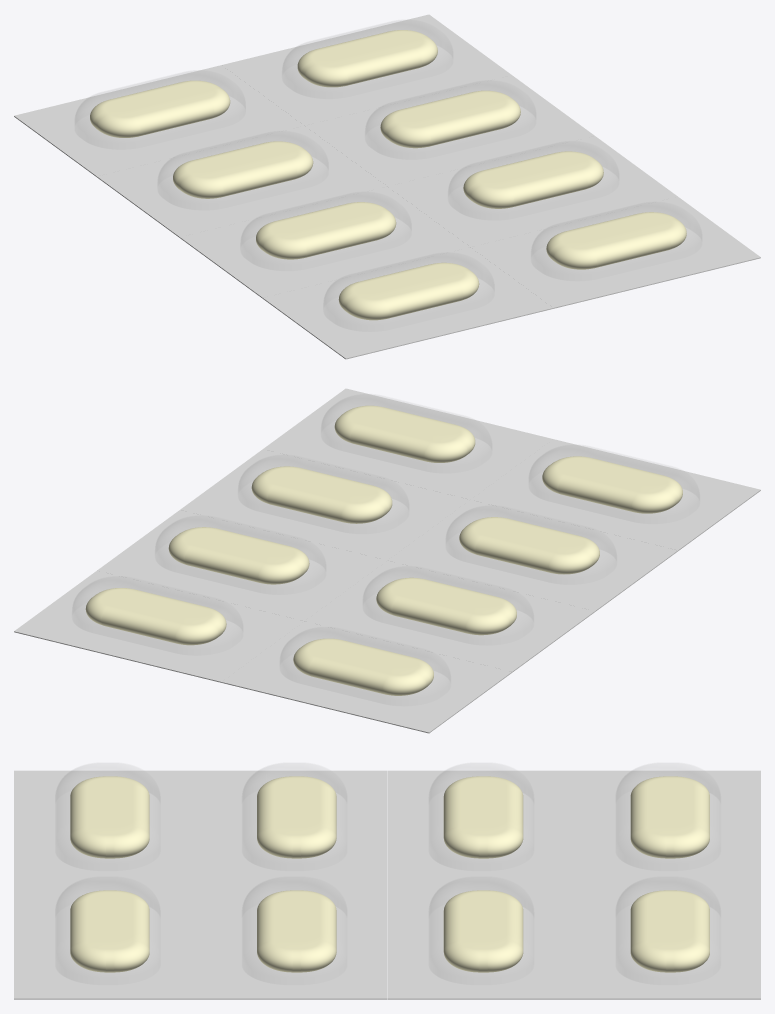
File: Heart_Pill_2x4_Beige.glb
3 renders of one model, top to bottom at view 1: azimuth 30°, elevation 25°; view 2: azimuth 150°, elevation 25°; view 3: azimuth 270°, elevation 25°, orthographic. The views are drawn at different scales.
Parts seen in each view (by area): view 1: Capsule_Pill_Base_2x4, Capsule_Pill_2x4, Capsule_Pill_Lid_2x4, Capsule_Pill_Shell_2x4; view 2: Capsule_Pill_Base_2x4, Capsule_Pill_2x4, Capsule_Pill_Lid_2x4, Capsule_Pill_Shell_2x4; view 3: Capsule_Pill_Base_2x4, Capsule_Pill_2x4, Capsule_Pill_Lid_2x4, Capsule_Pill_Shell_2x4.
Part boxes in pixels (x1,y1,x2,y2): Capsule_Pill_Base_2x4: (14, 14, 760, 359); Capsule_Pill_2x4: (90, 30, 686, 320); Capsule_Pill_Lid_2x4: (74, 45, 702, 331); Capsule_Pill_Shell_2x4: (75, 20, 701, 307); Capsule_Pill_Base_2x4: (14, 388, 760, 733); Capsule_Pill_2x4: (85, 405, 682, 695); Capsule_Pill_Lid_2x4: (72, 420, 700, 706); Capsule_Pill_Shell_2x4: (72, 394, 699, 681); Capsule_Pill_Base_2x4: (14, 770, 760, 999); Capsule_Pill_2x4: (70, 776, 709, 972); Capsule_Pill_Lid_2x4: (55, 790, 721, 985); Capsule_Pill_Shell_2x4: (55, 763, 720, 918).
Bounding box in the file's own units: 6.8 × 0.4666 × 9.41.
